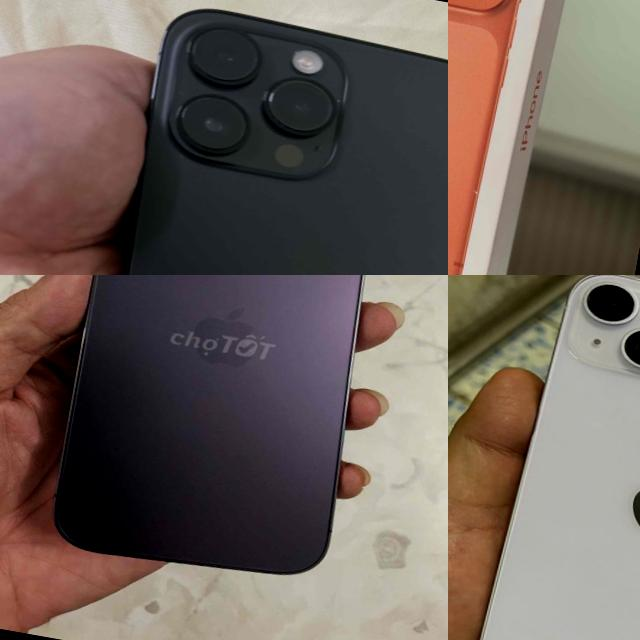gen_14: (30, 275, 411, 594), (51, 0, 448, 275), (463, 275, 640, 640)
